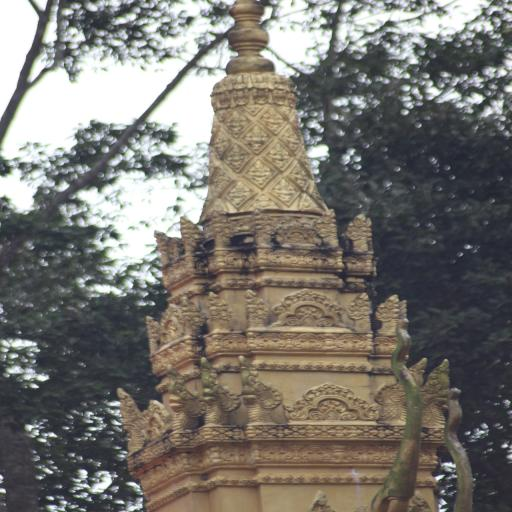hoa: (222, 141, 250, 172), (244, 124, 272, 153), (260, 104, 287, 134), (270, 176, 298, 204), (224, 110, 251, 138), (224, 180, 253, 206), (287, 158, 310, 190), (267, 142, 292, 168), (248, 160, 274, 185), (280, 126, 304, 149), (209, 168, 229, 193), (212, 128, 229, 156), (296, 150, 315, 168), (252, 195, 275, 209), (309, 181, 325, 200), (300, 193, 316, 211), (207, 198, 227, 212)
la: (286, 380, 372, 422), (276, 289, 345, 327), (298, 444, 330, 464), (356, 443, 380, 464), (270, 248, 295, 268), (253, 333, 285, 348), (262, 446, 291, 462), (335, 334, 364, 350), (222, 335, 250, 351), (222, 446, 248, 463), (292, 334, 322, 348), (293, 248, 313, 268), (227, 250, 248, 268), (311, 250, 331, 268), (376, 335, 394, 354), (252, 72, 269, 90), (252, 88, 270, 104), (166, 263, 180, 283), (234, 89, 250, 106), (233, 73, 250, 88), (271, 72, 285, 90), (219, 90, 232, 109), (218, 73, 232, 90), (271, 90, 286, 105), (286, 90, 298, 107)
ran: (376, 361, 432, 422), (237, 356, 283, 425), (195, 358, 237, 425), (164, 362, 200, 430), (417, 360, 454, 424), (116, 386, 151, 451), (349, 291, 375, 328), (376, 293, 402, 329), (178, 212, 202, 251), (347, 215, 374, 249), (208, 209, 232, 246), (242, 291, 268, 325), (180, 294, 204, 330), (251, 208, 273, 246), (317, 207, 338, 245), (208, 292, 230, 327), (153, 231, 172, 260), (144, 315, 158, 347)
